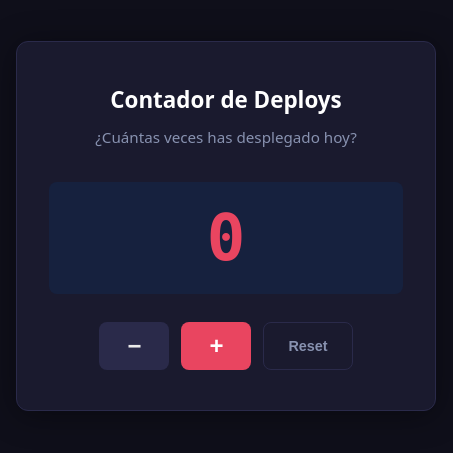
Test: Counter component › resetea el contador a 0
The image size is (453, 453).
// Incrementar varias veces
Step 1. Click the button with test id "increment-button" → [216, 346], box [181, 322, 251, 370]
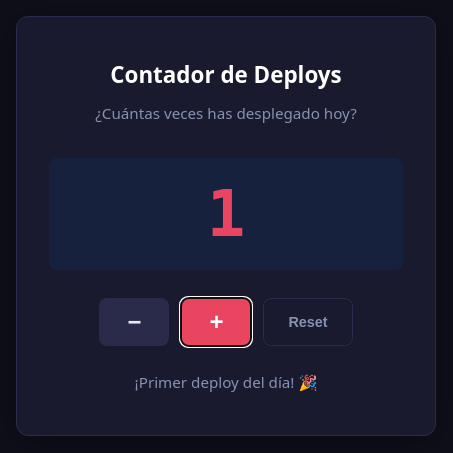
Step 2. Click the button with test id "increment-button" → [216, 322], box [181, 298, 251, 346]
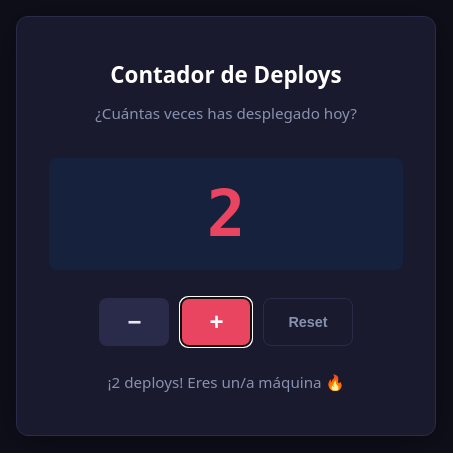
Step 3. Click the button with test id "increment-button" → [216, 322], box [181, 298, 251, 346]
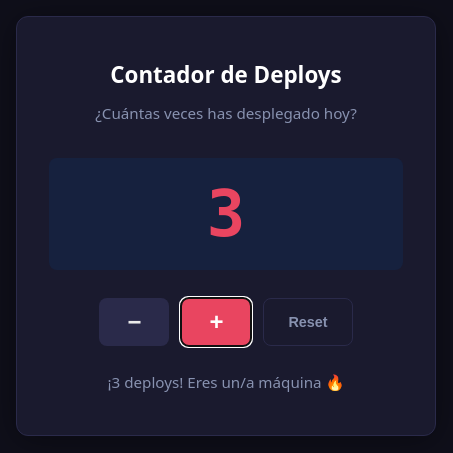
Step 4. Click the button with test id "reset-button" → [308, 322], box [263, 298, 353, 346]
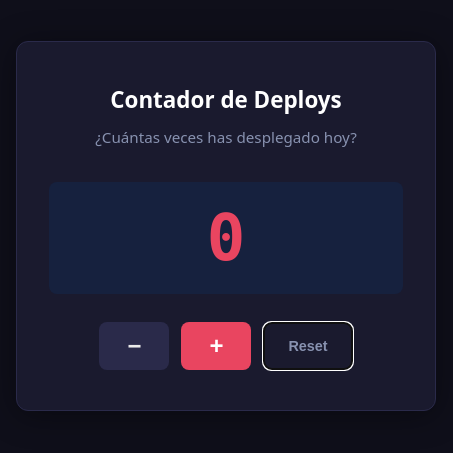
Result: the text with test id "counter-value" reads "0" at [207, 201, 245, 275]
